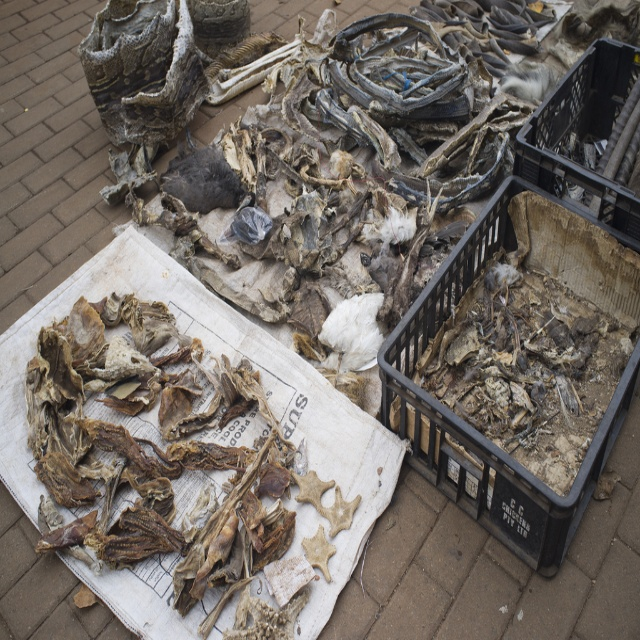Fish: (318, 481, 361, 538)
